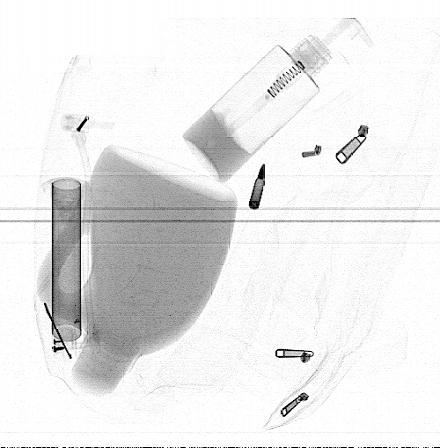Bullet: (248, 163, 266, 210)
